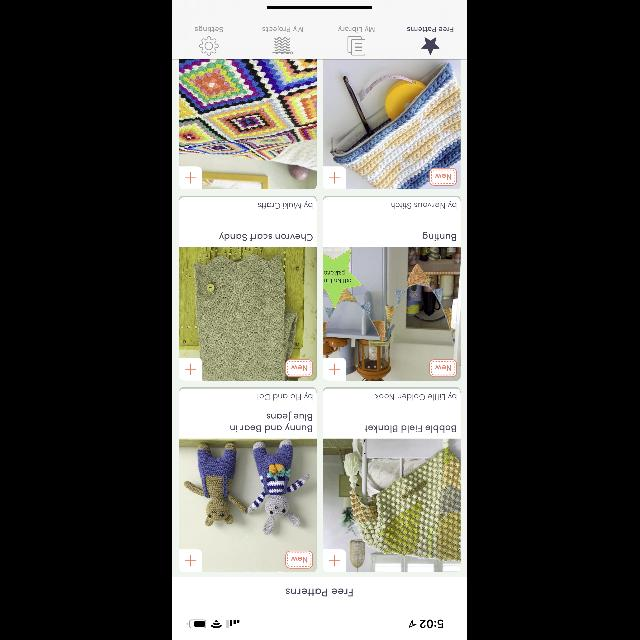icon: (180, 167, 202, 189), (324, 167, 346, 189), (324, 358, 346, 380), (180, 358, 202, 380), (180, 549, 202, 571), (324, 550, 346, 572), (199, 36, 219, 56), (272, 37, 294, 54), (348, 36, 366, 56), (422, 37, 440, 54)
image: (324, 438, 462, 572), (180, 438, 316, 572), (324, 248, 462, 380), (180, 248, 316, 380), (324, 60, 462, 188), (180, 60, 316, 188)
text: (231, 412, 313, 432), (220, 232, 312, 242), (377, 392, 458, 400), (286, 588, 354, 596), (366, 426, 456, 432), (392, 201, 458, 209), (257, 392, 313, 400), (259, 201, 313, 209), (424, 232, 456, 240), (263, 26, 303, 32), (339, 26, 375, 32), (408, 28, 454, 32), (195, 26, 223, 32)
uppertaskbar: (188, 620, 444, 628)
